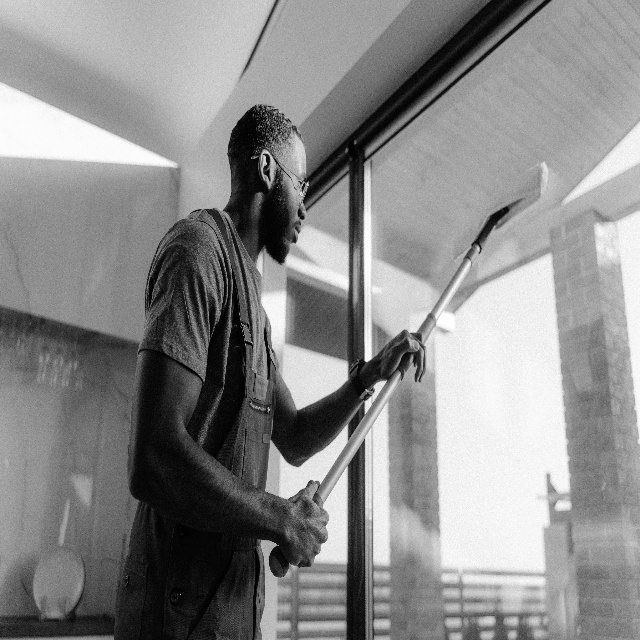Gafas: (251, 152, 309, 207)
Sin_guantes: (279, 480, 329, 568), (376, 329, 427, 383)
